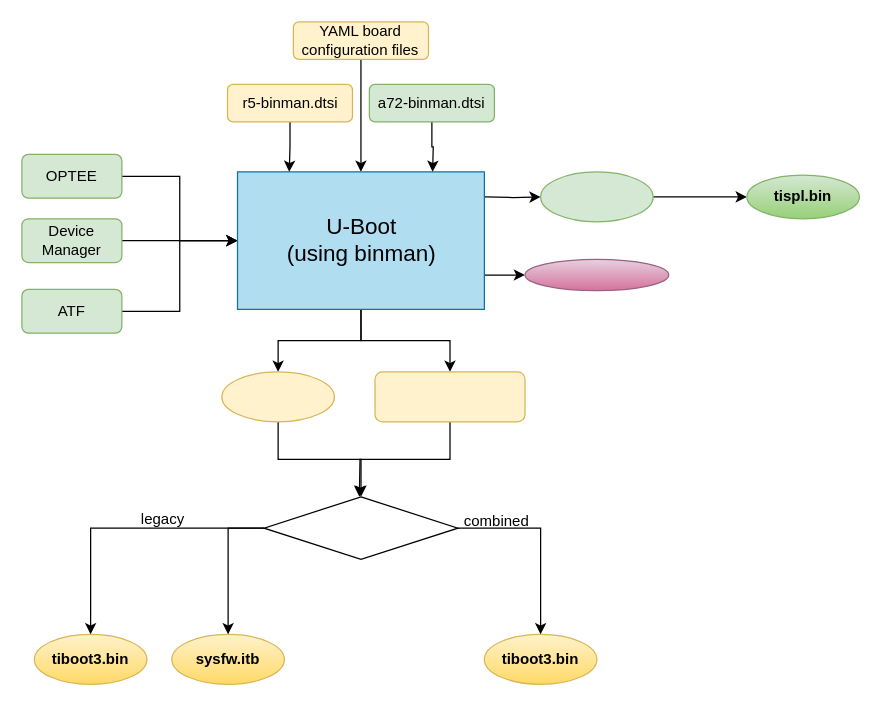
The diagram is 881 pixels wide and 706 high, and some of its shapes have lost their labels. Here are the shapes that lost their labels. From the top down, the box of each, then its label:
(539, 171, 653, 222): u-boot-a72-spl
(524, 258, 669, 291): u-boot.img
(221, 371, 334, 422): u-boot-r5-spl
(374, 371, 525, 422): board configuration binary artifacts
(263, 496, 458, 559): Boot flow?
